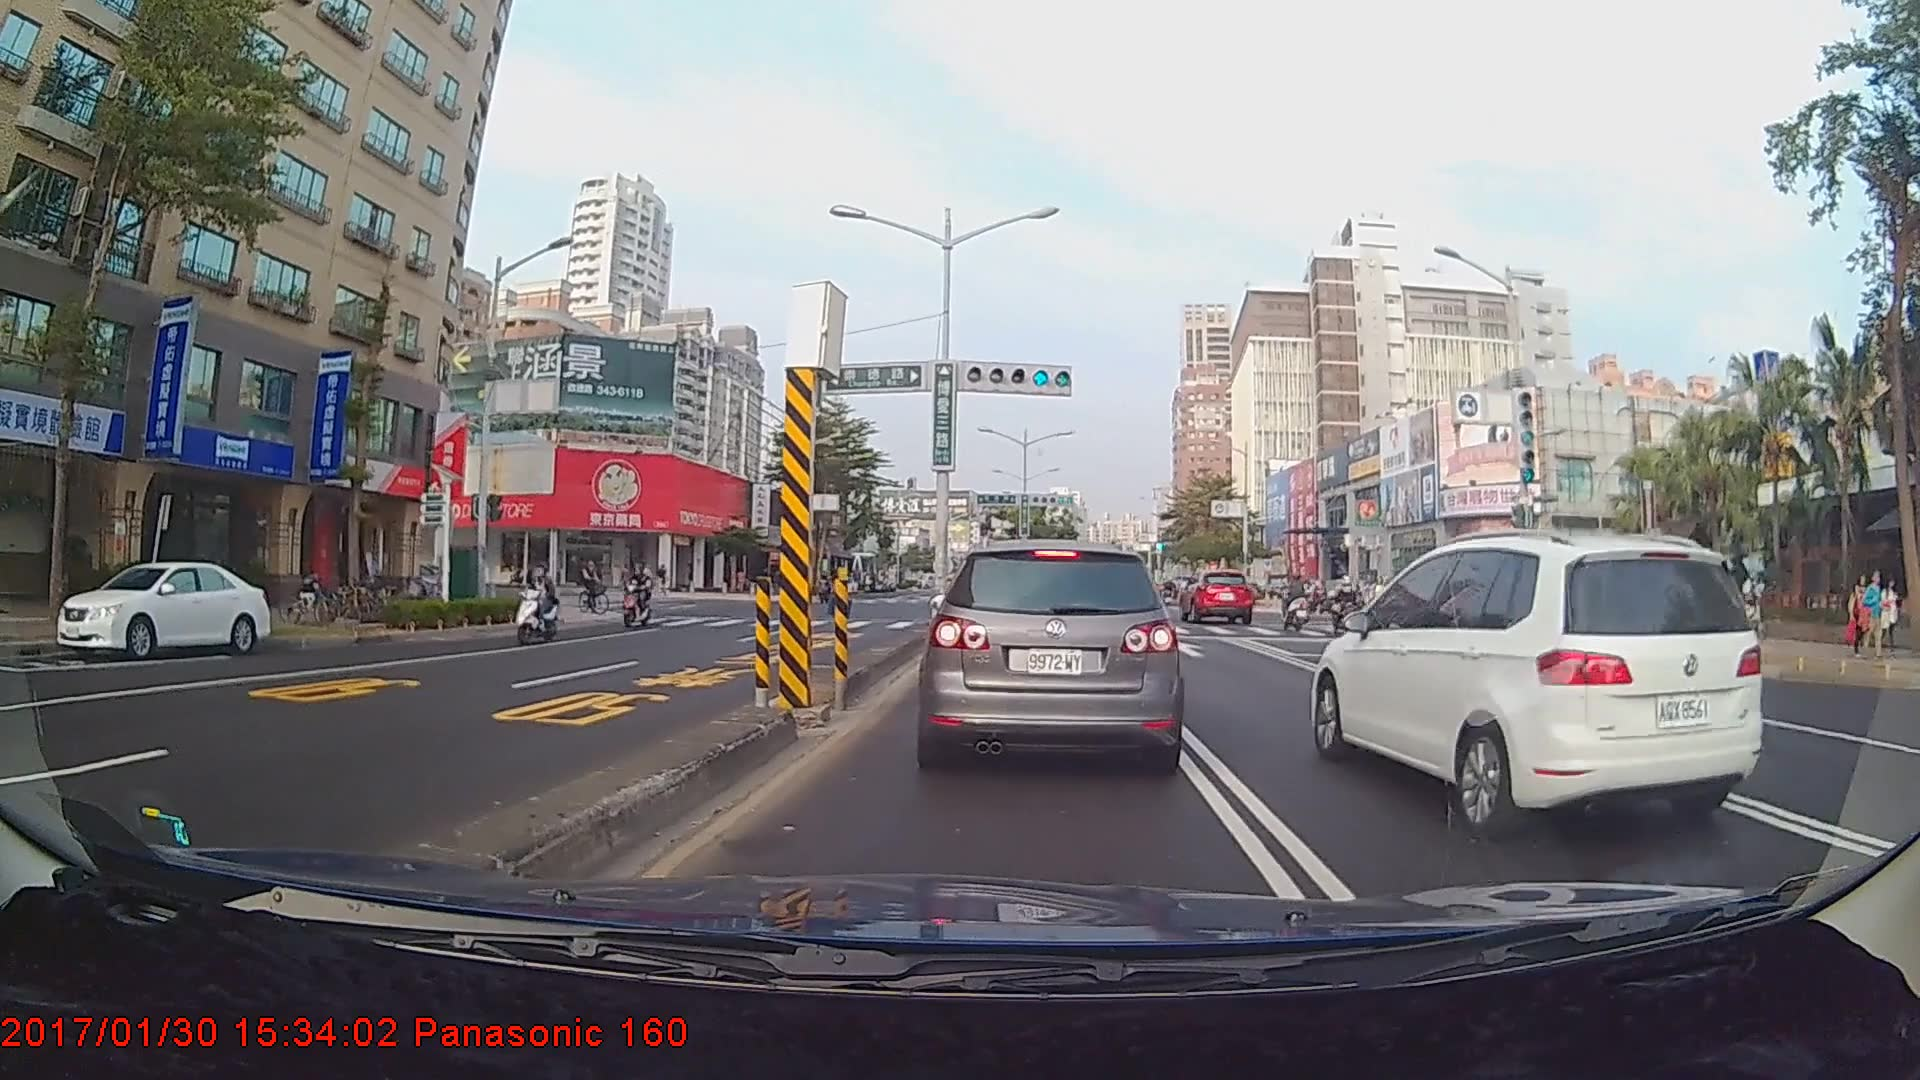pedestrian: (1859, 572, 1888, 662), (1848, 574, 1876, 658), (1877, 574, 1901, 656)
rider: (507, 560, 569, 650), (1323, 574, 1372, 631), (1277, 570, 1321, 627), (622, 568, 659, 632), (580, 555, 613, 621)
vehicle: (1308, 525, 1770, 846), (925, 537, 1180, 767), (58, 557, 267, 661), (1180, 569, 1253, 625)
